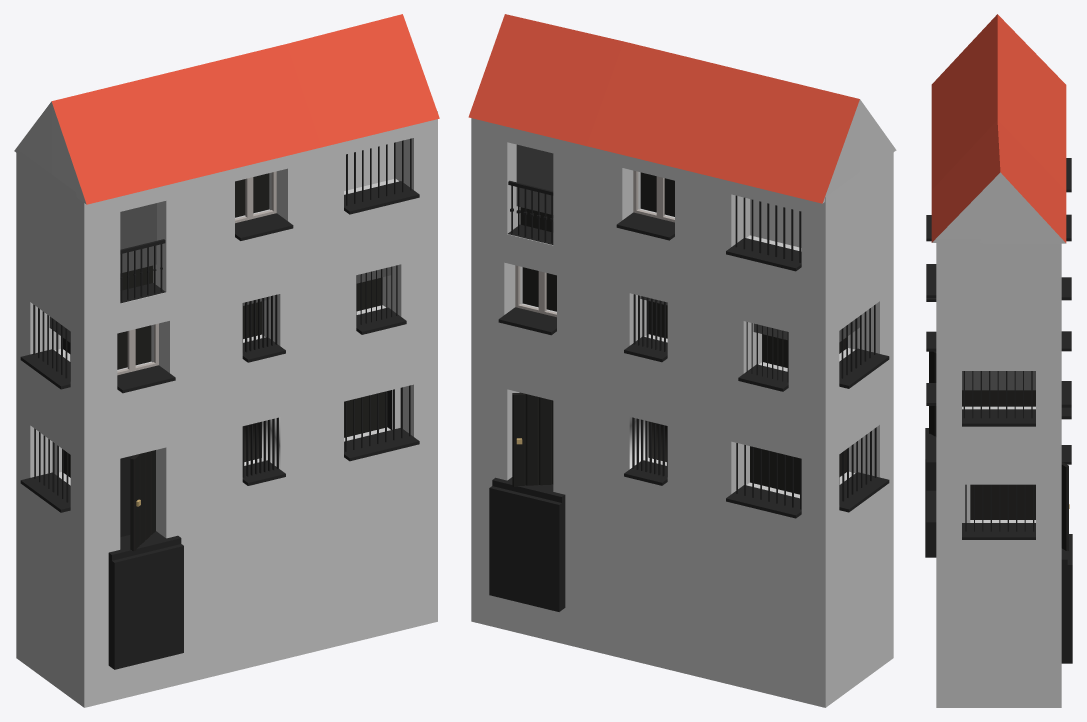
The model's file is casa_procedural_relleno_Con sotano_2.fbx.
The picture shows the model from 3 angles, left to right: view 1: azimuth 30°, elevation 25°; view 2: azimuth 150°, elevation 25°; view 3: azimuth 270°, elevation 25°; orthographic projection. The views are drawn at different scales.
Visible parts, largest first — view 1: casa procedural_relleno_Con sotano_2; view 2: casa procedural_relleno_Con sotano_2; view 3: casa procedural_relleno_Con sotano_2.
Part boxes in pixels (x1,y1,x2,y2): casa procedural_relleno_Con sotano_2: (14,14,439,707); casa procedural_relleno_Con sotano_2: (468,14,896,707); casa procedural_relleno_Con sotano_2: (925,14,1072,707).
Bounding box in the file's own units: 316 × 472 × 118.
